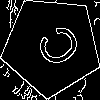C: (26, 21, 84, 76)
